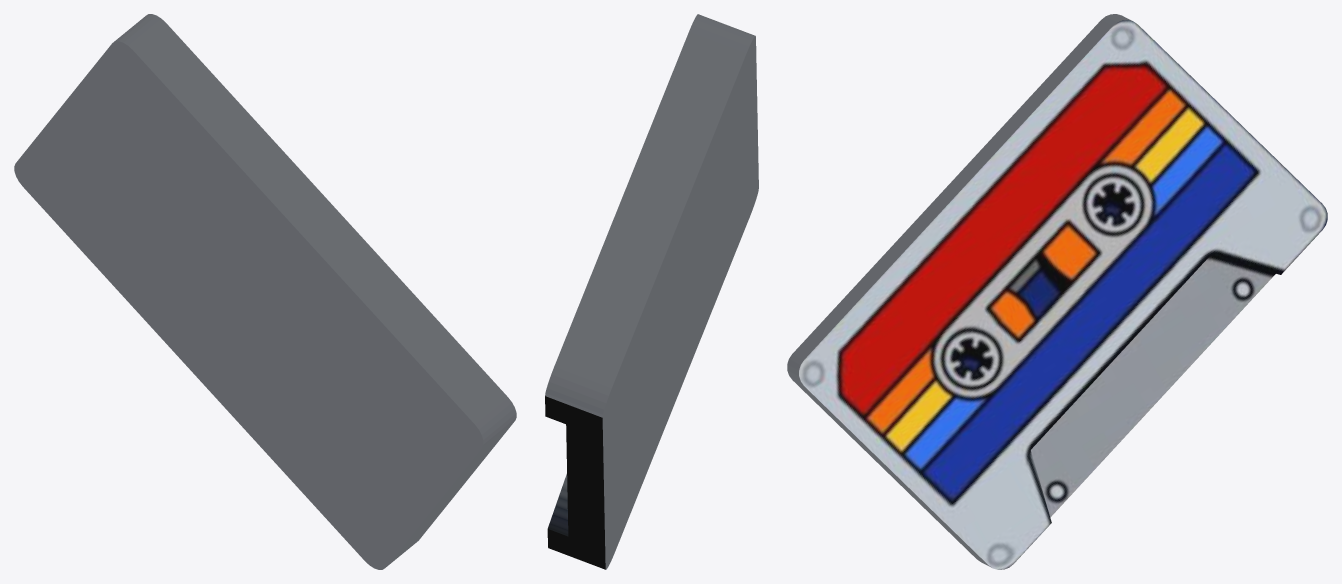
The model's file is tape.glb.
3 renders of one model, left to right at view 1: azimuth 30°, elevation 25°; view 2: azimuth 150°, elevation 25°; view 3: azimuth 270°, elevation 25°, orthographic. The views are drawn at different scales.
Parts seen in each view (by area): view 1: tape; view 2: tape; view 3: tape.
Part boxes in pixels (x1=…): tape: x1=14, y1=14, x2=516, y2=569; tape: x1=545, y1=14, x2=758, y2=569; tape: x1=787, y1=14, x2=1327, y2=569.
Size of the model in its own units: 0.7936 by 1.77 by 1.8.
Materials: 3 (1 with a texture image).
